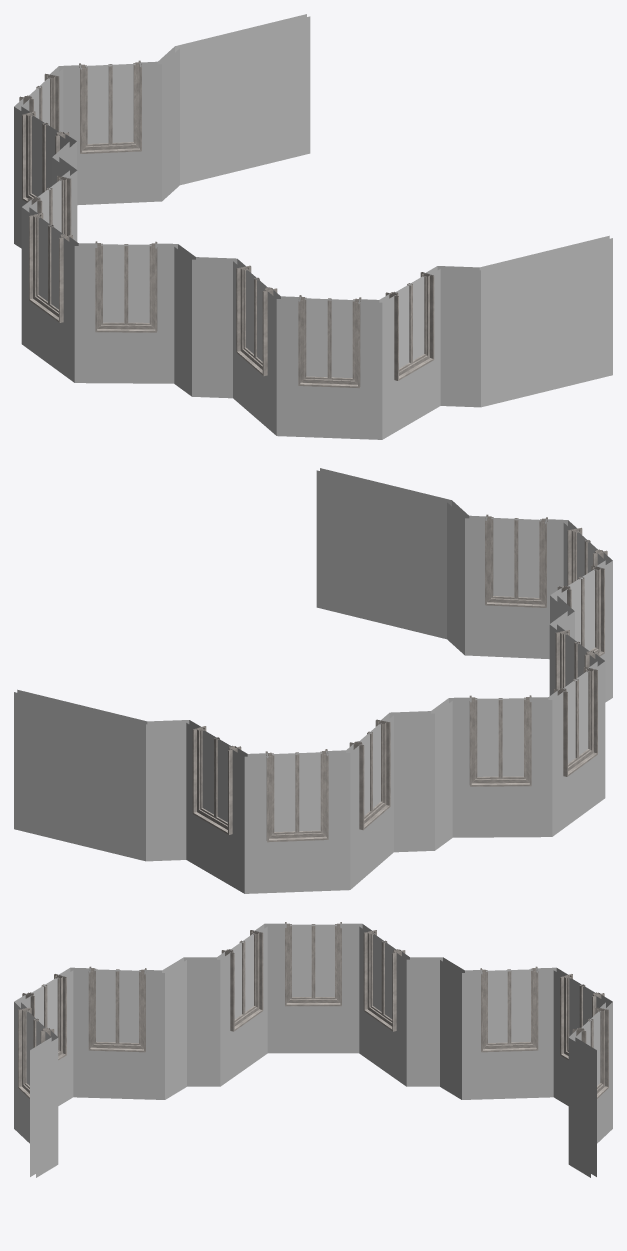
Rendered from Ambulatory_Outer_B_F.fbx.
3 renders of one model, top to bottom at view 1: azimuth 30°, elevation 25°; view 2: azimuth 150°, elevation 25°; view 3: azimuth 270°, elevation 25°, orthographic. The views are drawn at different scales.
Parts seen in each view (by area): view 1: Ambulatory_Outer_B_F; view 2: Ambulatory_Outer_B_F; view 3: Ambulatory_Outer_B_F.
Part boxes in pixels (bbox=[...]): Ambulatory_Outer_B_F: bbox=[14, 14, 612, 439]; Ambulatory_Outer_B_F: bbox=[14, 468, 612, 893]; Ambulatory_Outer_B_F: bbox=[14, 922, 612, 1177].
Size of the model in its own units: 19.02 by 25.64 by 6.
